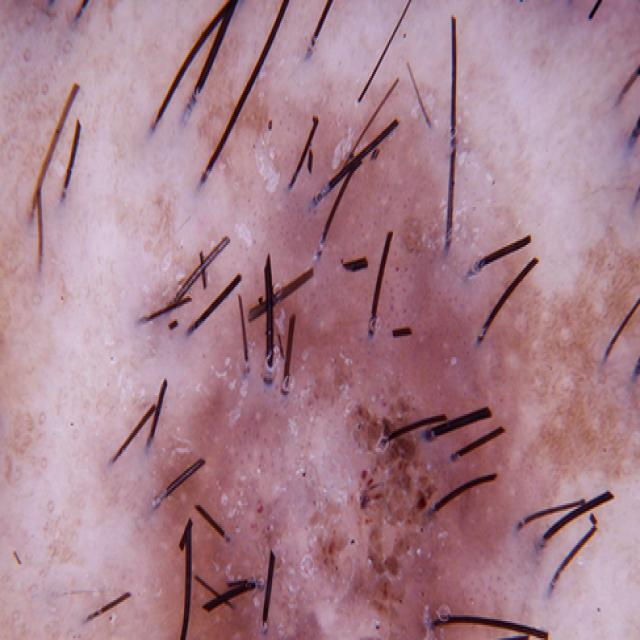Keratosis: (137, 114, 574, 640)
